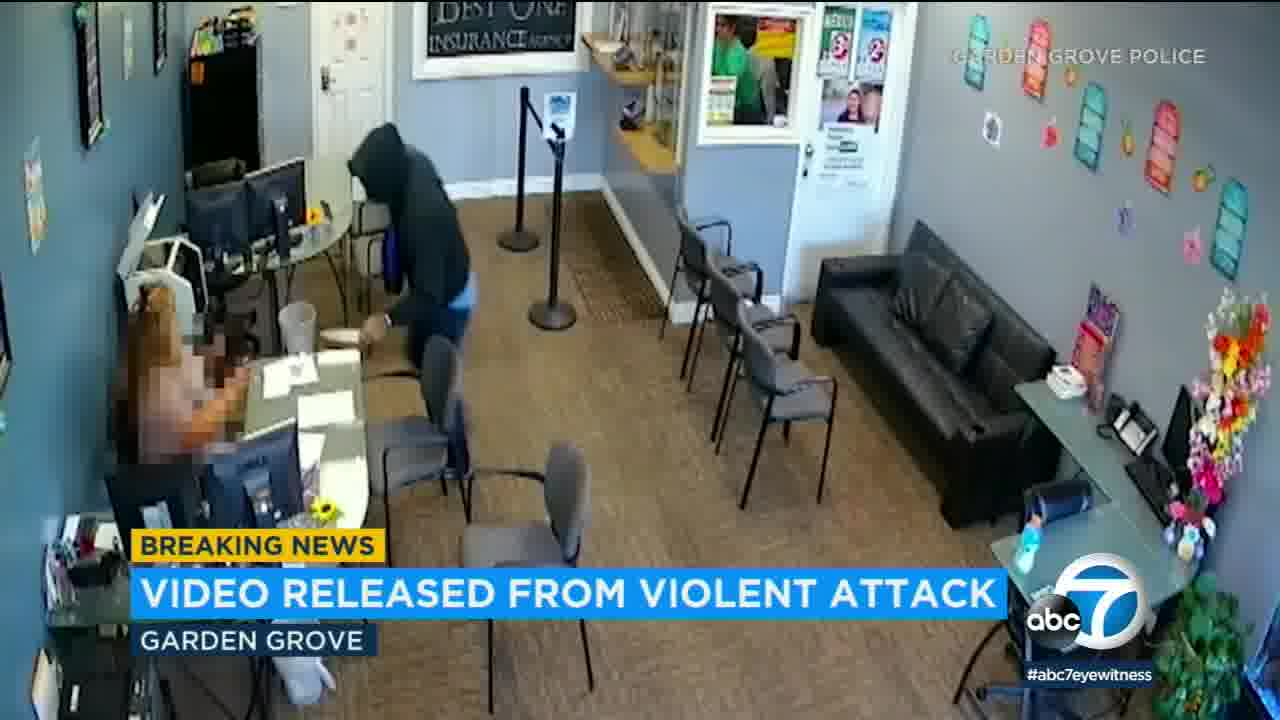knife: (320, 321, 373, 360)
knife in hand: (304, 270, 468, 366)
person: (354, 122, 474, 399), (105, 278, 240, 500)
